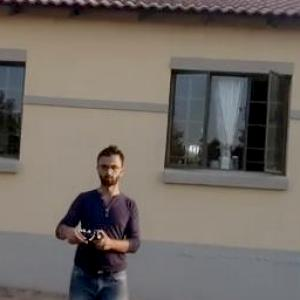follow: (44, 135, 148, 299)
